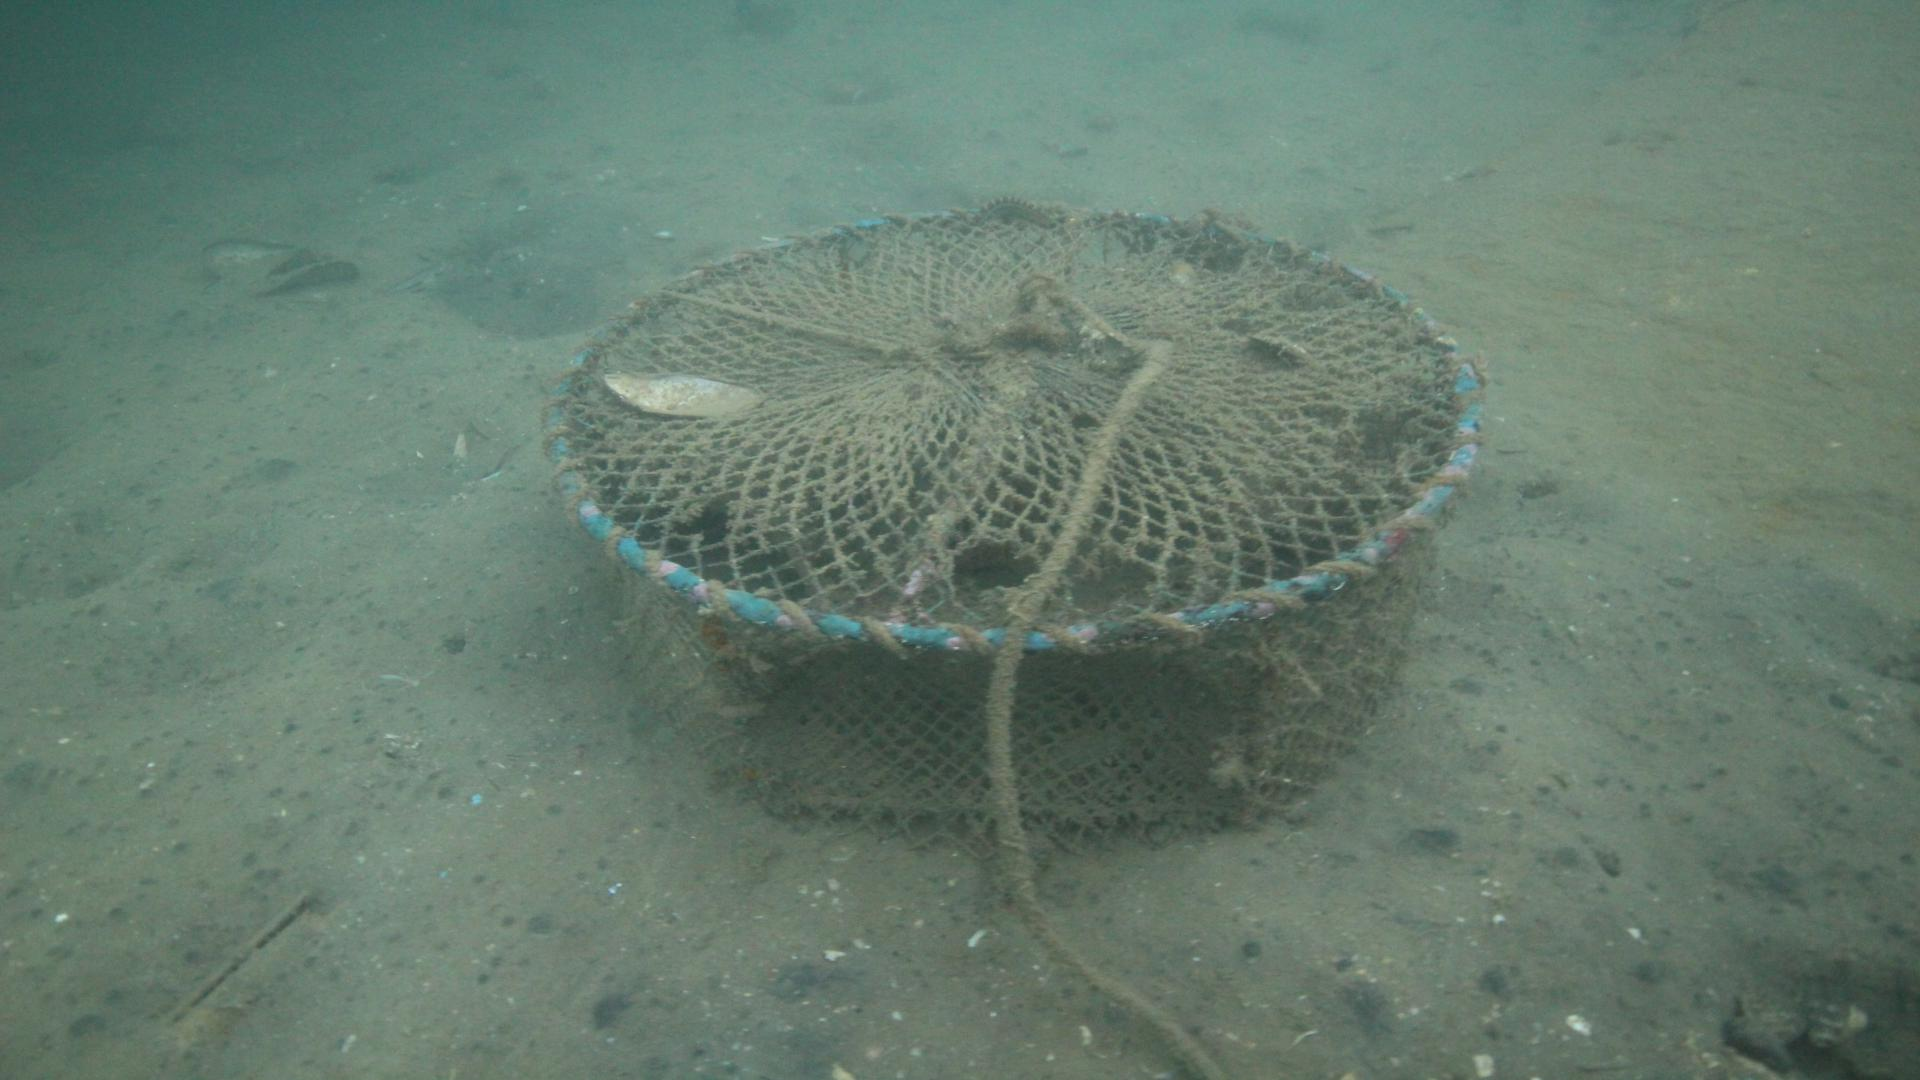circular fish trap: (542, 196, 1486, 847)
